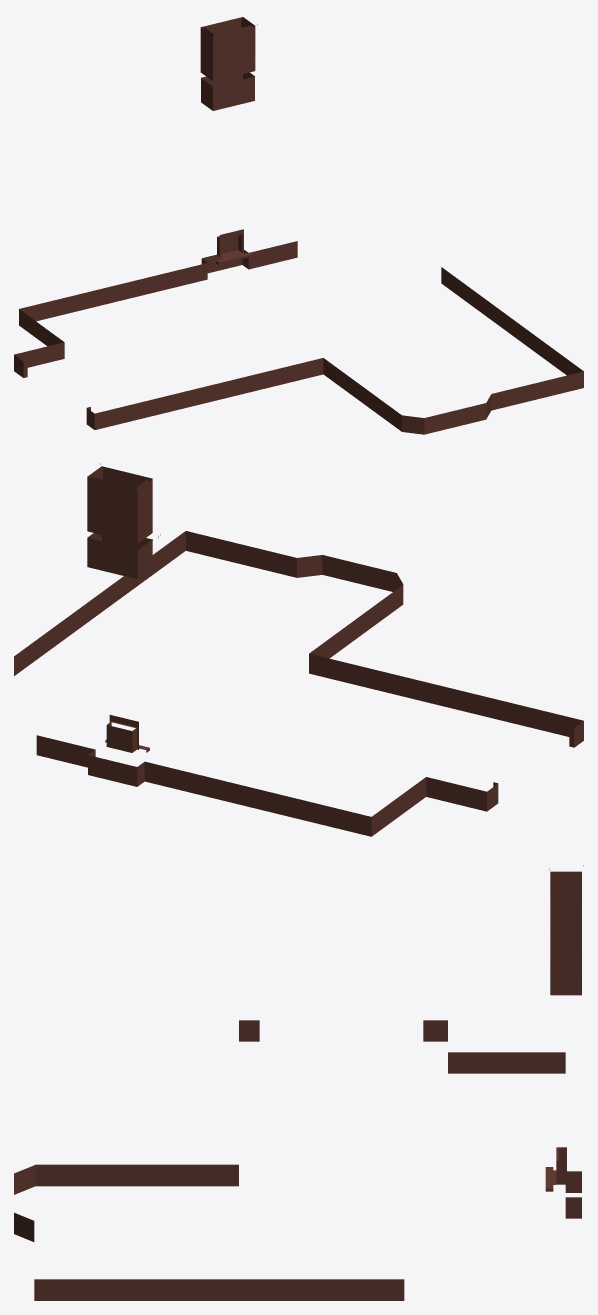
Rendered from Subsurfed_Porch.010.obj.
The picture shows the model from 3 angles, top to bottom: view 1: azimuth 30°, elevation 25°; view 2: azimuth 150°, elevation 25°; view 3: azimuth 270°, elevation 25°; orthographic projection. The views are drawn at different scales.
Parts seen in each view (by area): view 1: Subsurfed_Porch.010_Cube.001; view 2: Subsurfed_Porch.010_Cube.001; view 3: Subsurfed_Porch.010_Cube.001.
Boxes of the visible parts, left/top/right/bottom form: Subsurfed_Porch.010_Cube.001: left=14, top=17, right=583, bottom=434; Subsurfed_Porch.010_Cube.001: left=14, top=463, right=583, bottom=836; Subsurfed_Porch.010_Cube.001: left=14, top=865, right=583, bottom=1300.
Size of the model in its own units: 18.34 by 10.74 by 17.04.
